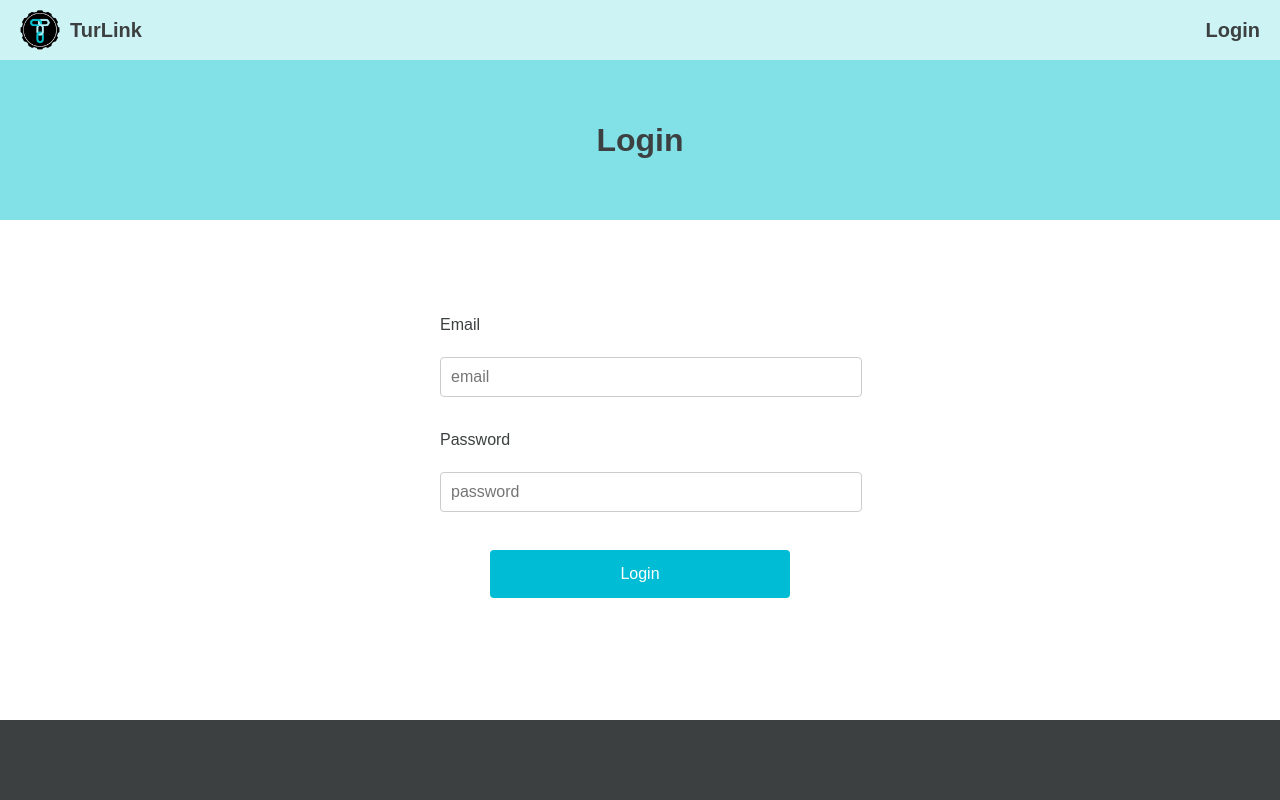
Test: Login Page Tests › should access the shorten link page upon page load and view the shorten link input, shorten link button, shortened link input, copy button, and Original URL con
Type "kim@example.com" into the field with class "email-input". click: point(651, 377)
box: [440,357,862,397]
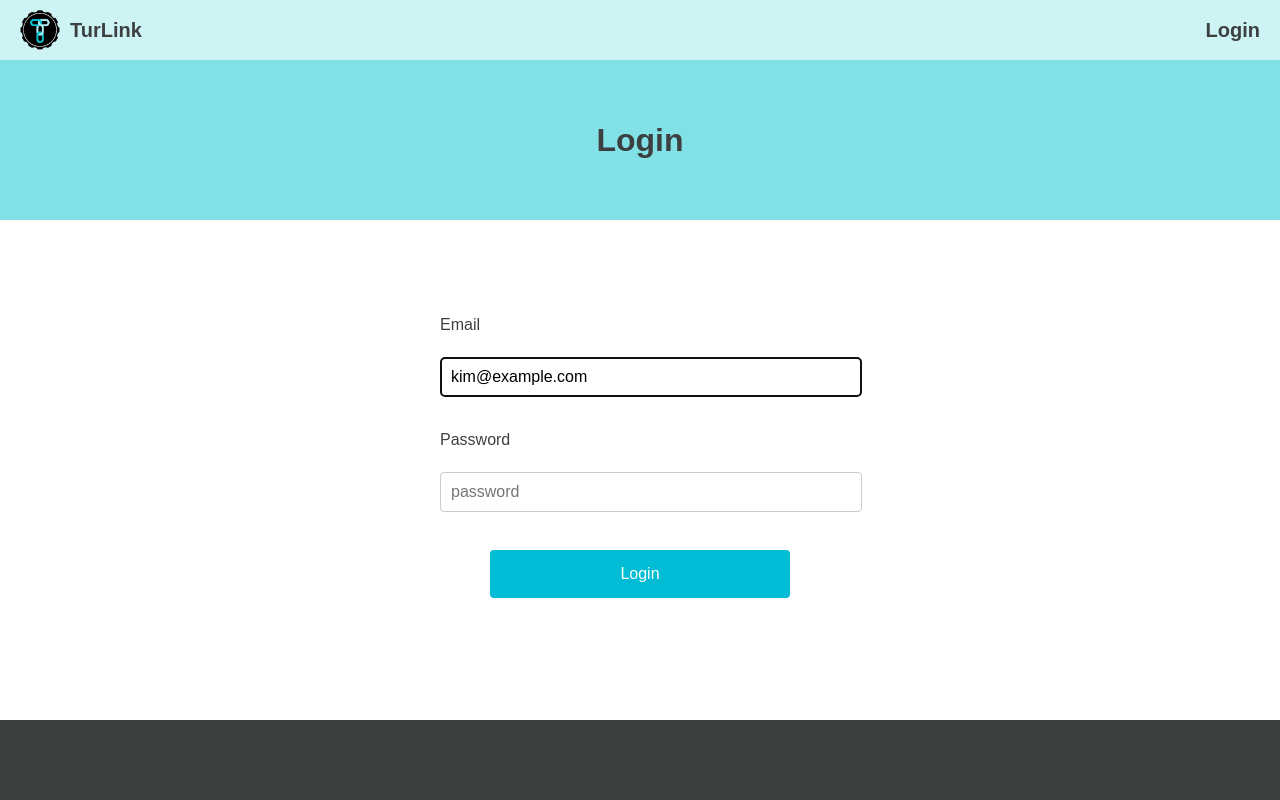
Type "kim123" into the password field with placeholder "password". click: point(651, 492)
box: [440,472,862,512]
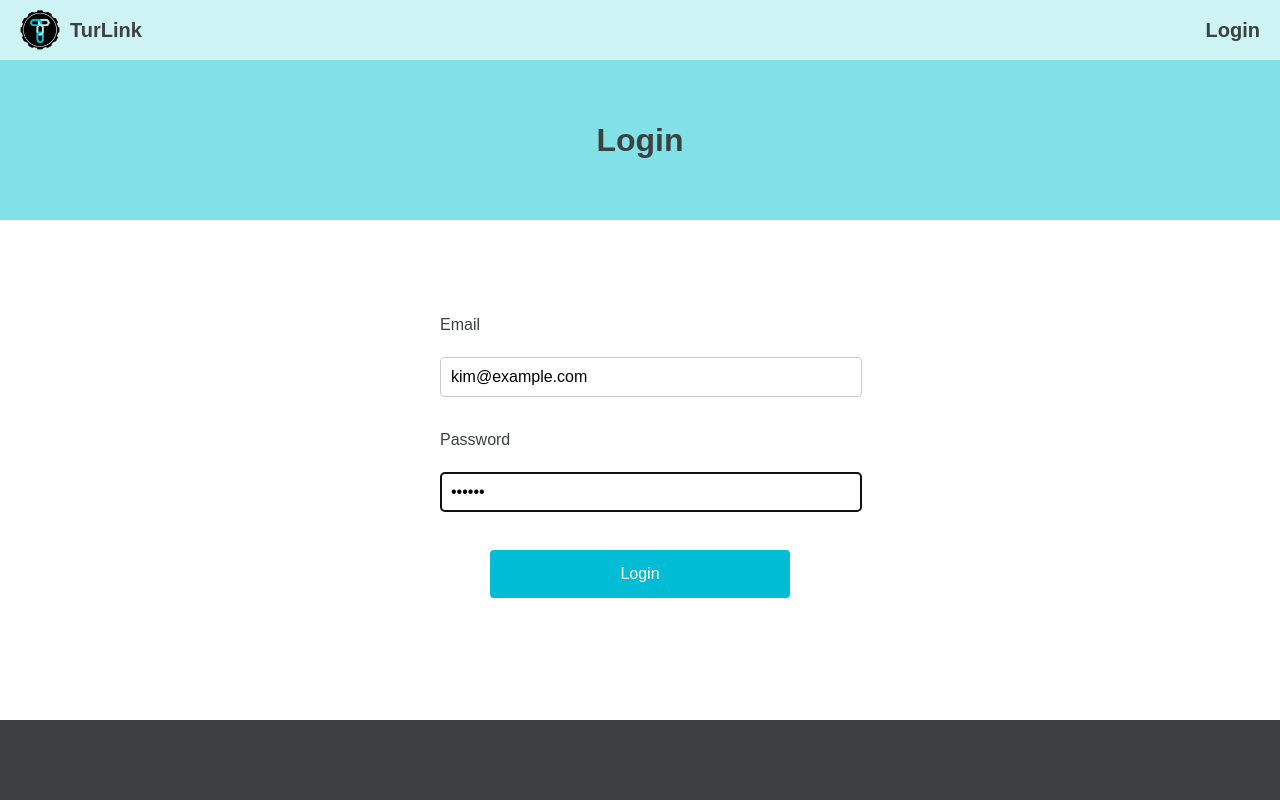
Click the button with class "login-button". click: point(640, 574)
box: [490,550,790,598]
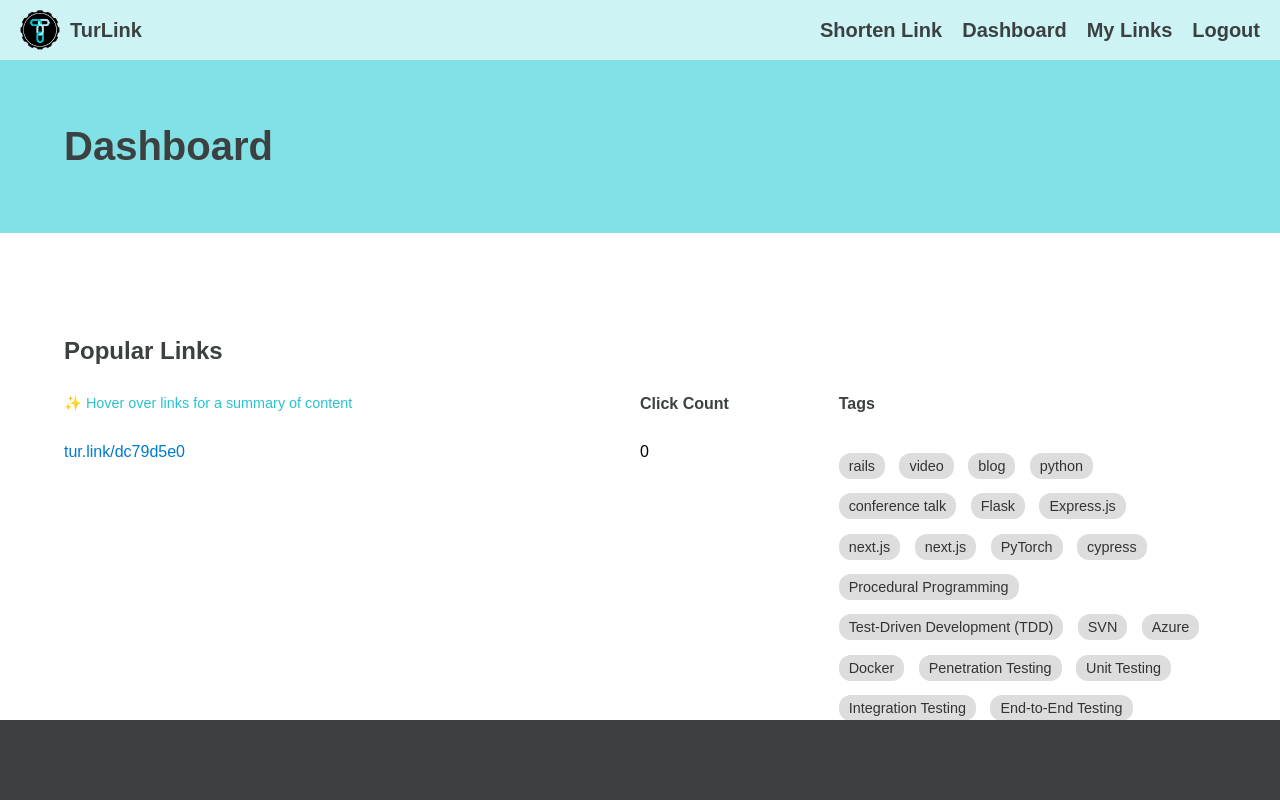
Expected: the navigation bar with class "navbar" is shown, [20,10,1260,50]
Expected: the heading with class "dashboard-header" reads "Dashboard", [64,124,273,168]
Click the link to "/shortenlink". click: point(881, 31)
box: [820,19,942,42]
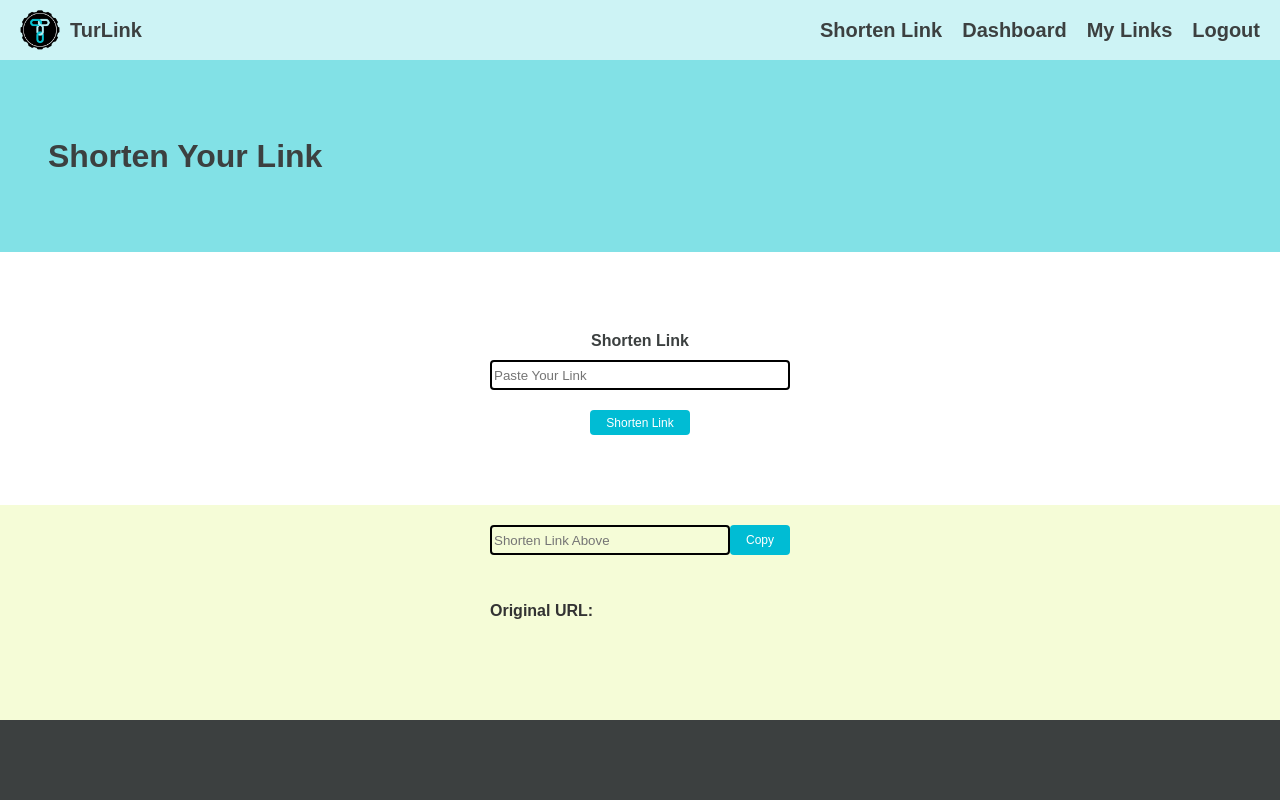
Expected: the text with class "shorten-link-header-text" reads "Shorten Your Link", [48,138,322,174]
Expected: the button with class "shorten-link-button" reads "Shorten Link", [590,410,690,435]
Expected: the button with class "copy-button" reads "Copy", [730,525,790,555]
